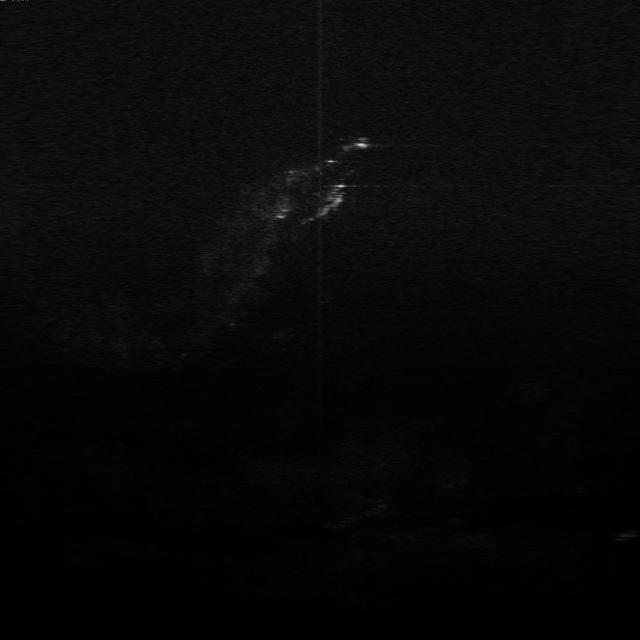rov: (352, 137, 377, 151)
